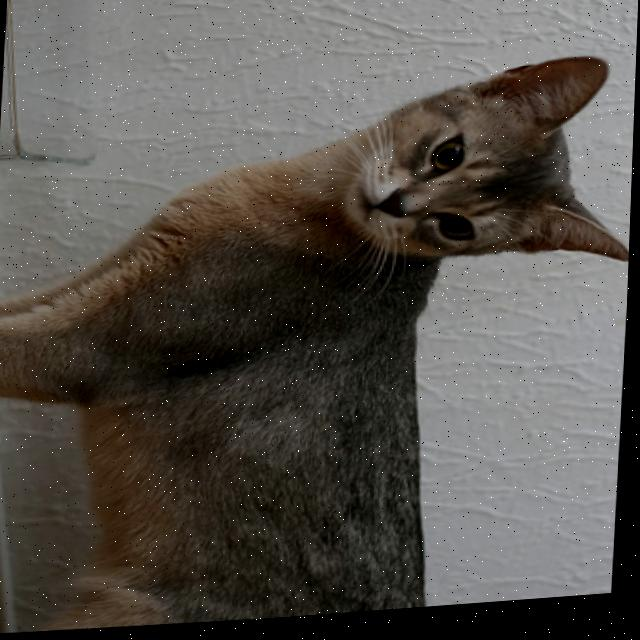Abyssinian: (0, 49, 637, 640)
